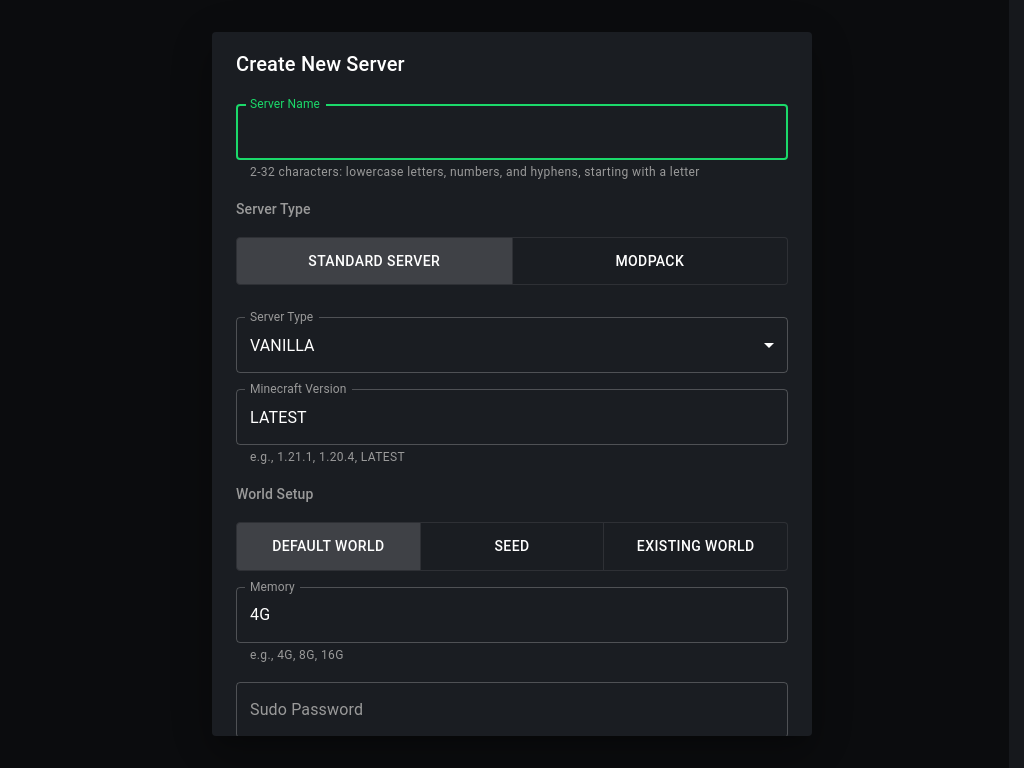
Test case: CreateServerDialog › should render server type options
The width and height of the screenshot is (1024, 768).
Press the mouse on the dropdown named "server type" at (282, 345), box [250, 336, 315, 355]
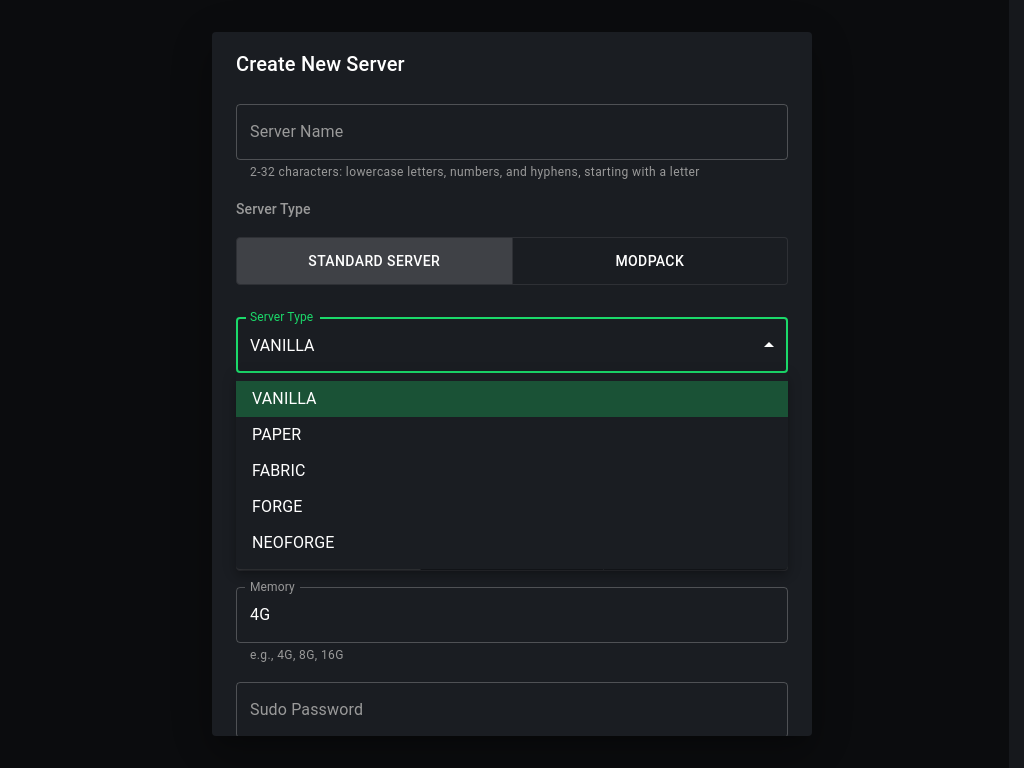
Now the option "PAPER" is shown, box [252, 425, 301, 444]
Now the option "VANILLA" is shown, box [236, 381, 788, 417]
Now the option "FABRIC" is shown, box [252, 461, 306, 480]
